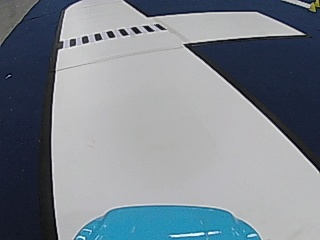CrossWalk: (60, 22, 166, 47)
